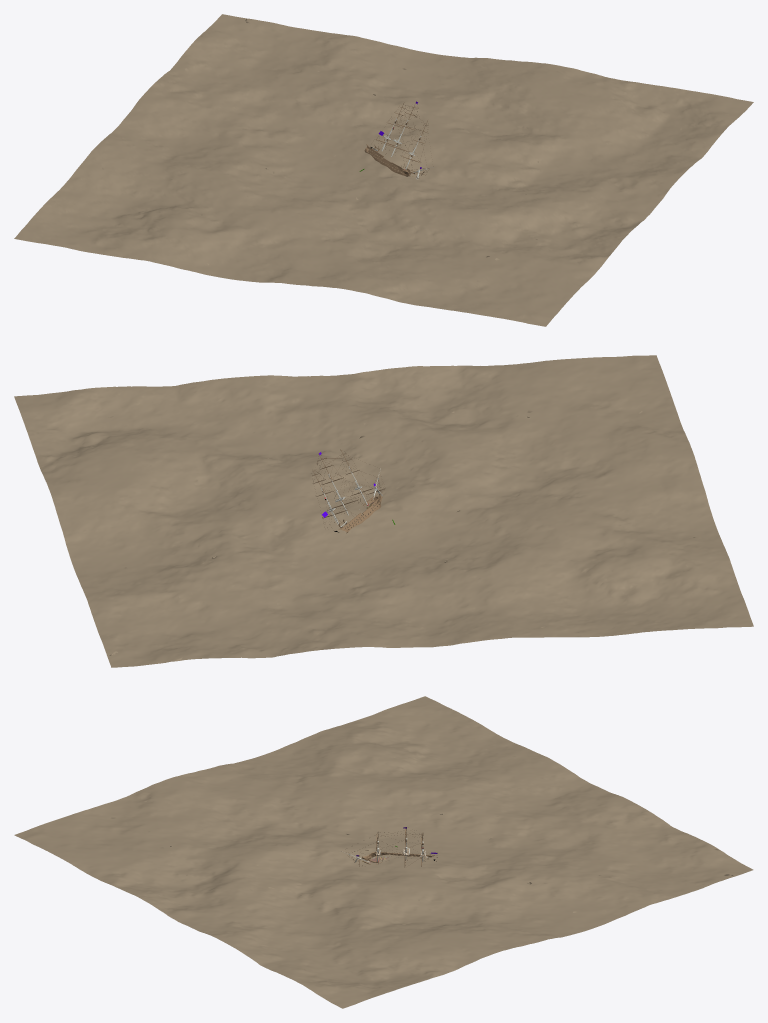
Rendered from terrain.dae.
3 views of the same model, one above another, from view 1: azimuth 30°, elevation 25°; view 2: azimuth 150°, elevation 25°; view 3: azimuth 270°, elevation 25° (orthographic). The views are drawn at different scales.
Visible parts, largest first — view 1: TerragenMesh; view 2: TerragenMesh; view 3: TerragenMesh.
Boxes of the visible parts, x1=… form: TerragenMesh: x1=14, y1=14, x2=753, y2=326; TerragenMesh: x1=14, y1=355, x2=753, y2=667; TerragenMesh: x1=14, y1=696, x2=753, y2=1008.
Bounding box in the file's own units: 162 × 162 × 14.06.
